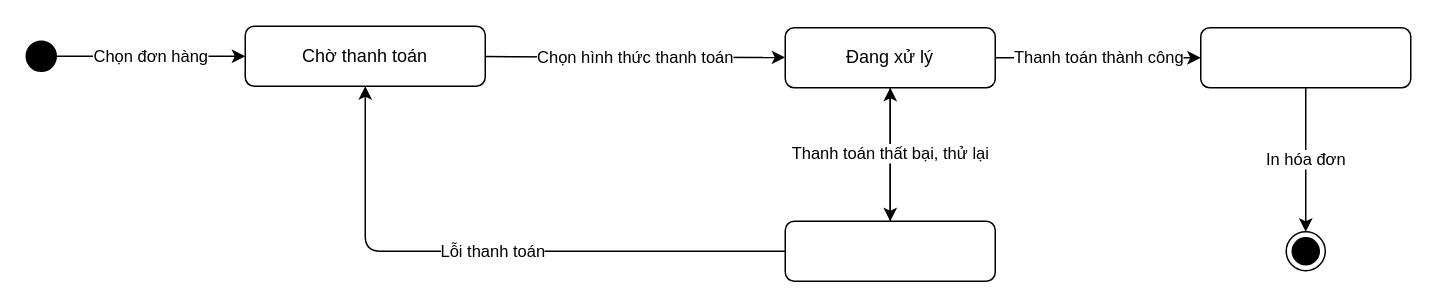
Image size: 1437x308. Some labels were removed from this diagram. Here are the shapes that lost their labels. From the top down, the centre of each, then its label:
the point at 1305,57: Hoàn thành
the point at 889,250: Thất bại
